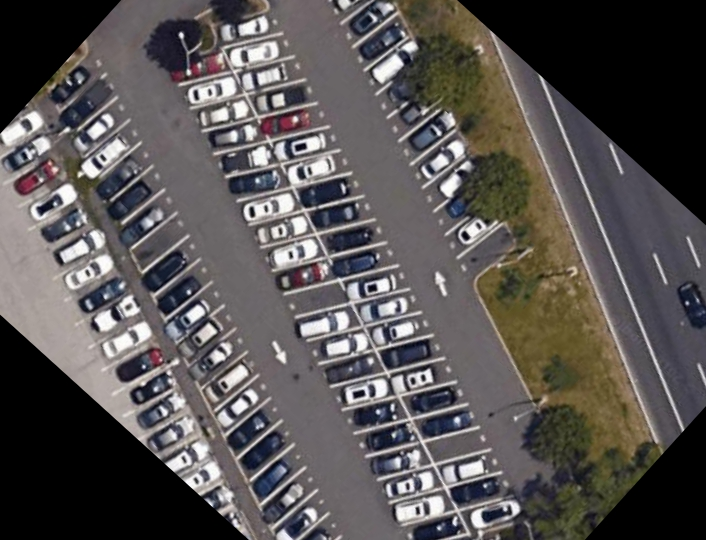parkingspot: (151, 5, 534, 540), (42, 41, 348, 540), (0, 98, 257, 540), (325, 0, 520, 289)
